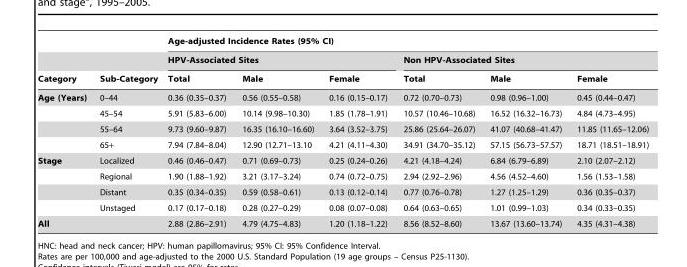table: (37, 36, 648, 227)
table column: (233, 36, 320, 227), (394, 36, 481, 227), (481, 36, 568, 227), (568, 36, 648, 227), (320, 36, 394, 227), (162, 36, 233, 227), (92, 36, 162, 227), (37, 36, 92, 227)
table column header: (37, 36, 648, 88)
table row: (37, 50, 648, 69), (37, 69, 648, 88), (37, 88, 648, 105), (37, 135, 648, 152), (37, 105, 648, 121), (37, 152, 648, 168), (37, 168, 648, 184), (37, 199, 648, 215), (37, 184, 648, 199), (37, 36, 648, 50), (37, 121, 648, 135), (37, 215, 648, 227)
table spanning cell: (162, 36, 648, 50), (394, 50, 648, 69), (162, 50, 394, 69), (92, 36, 162, 88), (37, 88, 92, 152), (37, 152, 92, 215), (37, 36, 92, 88)
